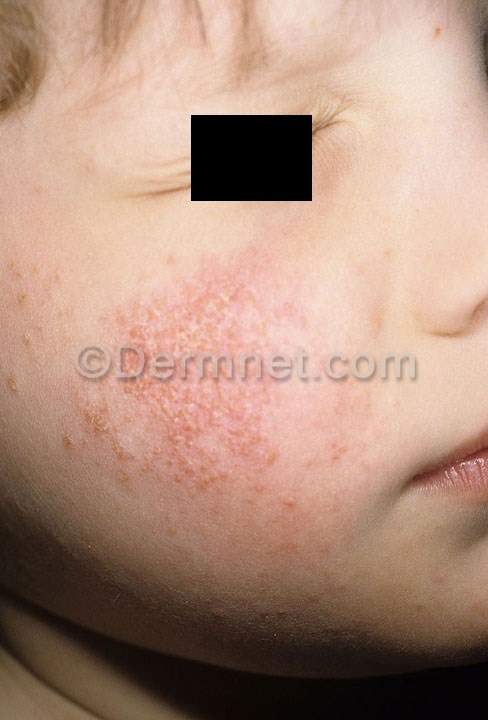Eczema: (2, 238, 381, 609)
